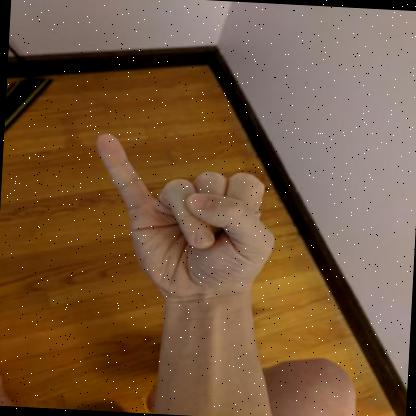I: (96, 133, 274, 306)
